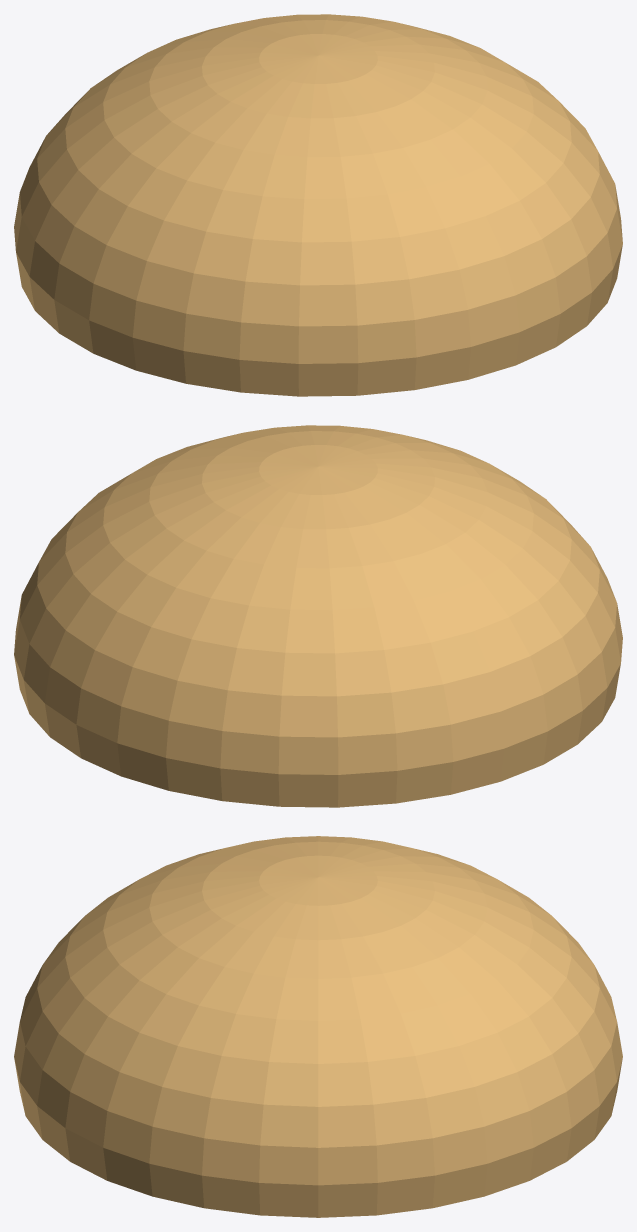
Rendered from top_bun.glb.
3 renders of one model, top to bottom at view 1: azimuth 30°, elevation 25°; view 2: azimuth 150°, elevation 25°; view 3: azimuth 270°, elevation 25°, orthographic.
Visible parts, largest first — view 1: Sphere; view 2: Sphere; view 3: Sphere.
Part boxes in pixels (x1=…): Sphere: x1=14, y1=14, x2=622, y2=396; Sphere: x1=14, y1=425, x2=622, y2=807; Sphere: x1=14, y1=836, x2=622, y2=1217.
Bounding box in the file's own units: 2 × 0.7768 × 2.
